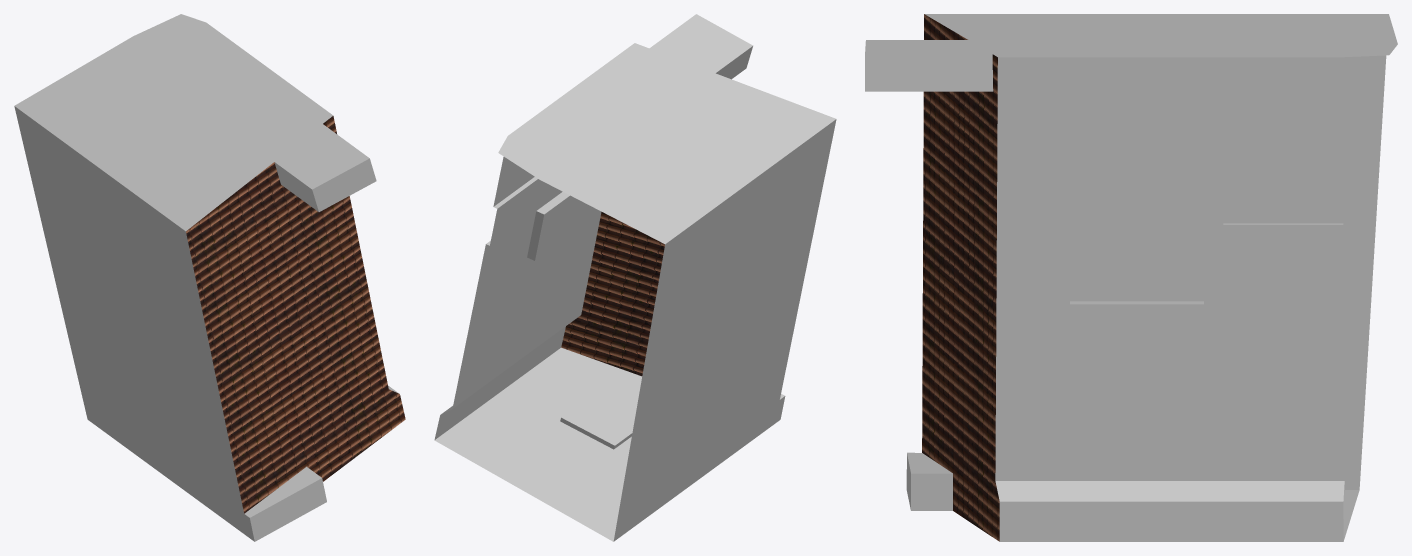
Rendered from Toompuiestee_18e_2.obj.
The picture shows the model from 3 angles, left to right: view 1: azimuth 30°, elevation 25°; view 2: azimuth 150°, elevation 25°; view 3: azimuth 270°, elevation 25°; orthographic projection. The views are drawn at different scales.
Parts seen in each view (by area): view 1: Toompuiestee_18e_2; view 2: Toompuiestee_18e_2; view 3: Toompuiestee_18e_2.
Part boxes in pixels (x1=…): Toompuiestee_18e_2: x1=14, y1=14, x2=405, y2=541; Toompuiestee_18e_2: x1=434, y1=14, x2=836, y2=541; Toompuiestee_18e_2: x1=865, y1=14, x2=1397, y2=541.
Bounding box in the file's own units: 6.17 × 8.91 × 8.49.
